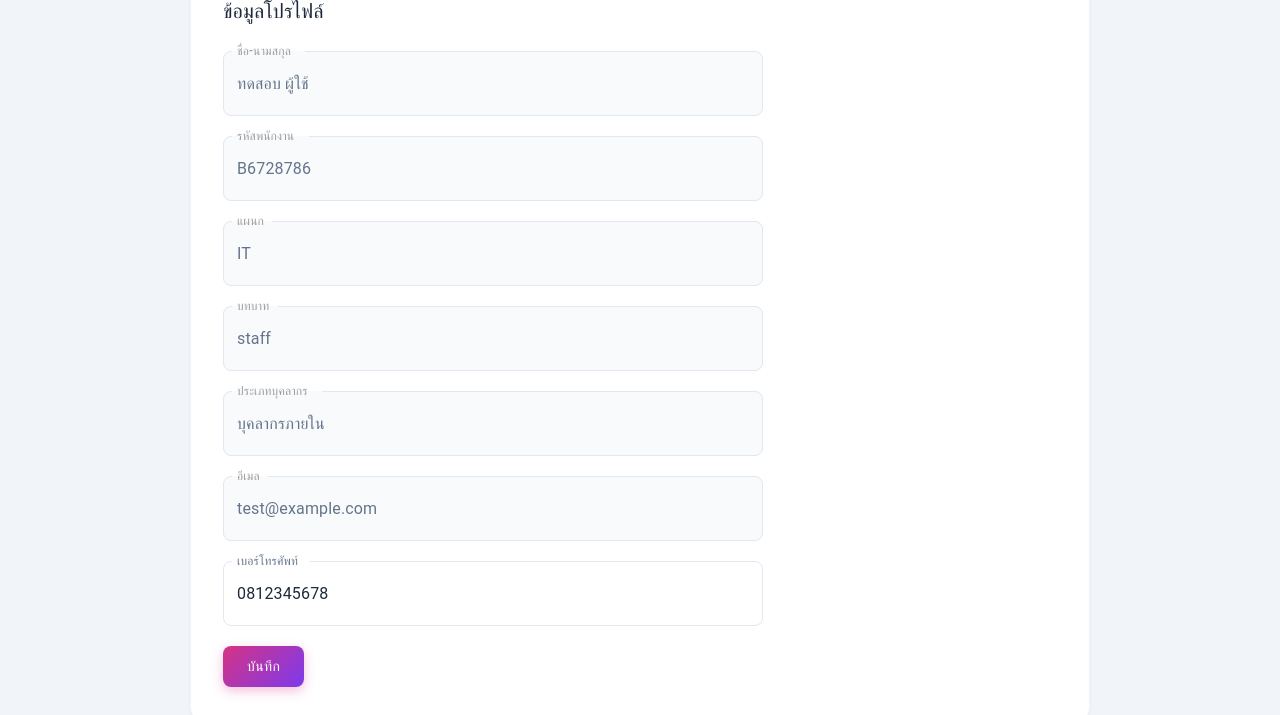
Test case: EmployeeAccountPage — ProfileTab › shows API error message when profile save fails
(page scrolled)
Expected: the field labelled "เบอร์โทรศัพท์" is shown, [223,561,763,626]
What coordinates should you click on to do the following:
click the button "บันทึก"
I would click on:
 (264, 666)
Its box is [223,646,304,686].
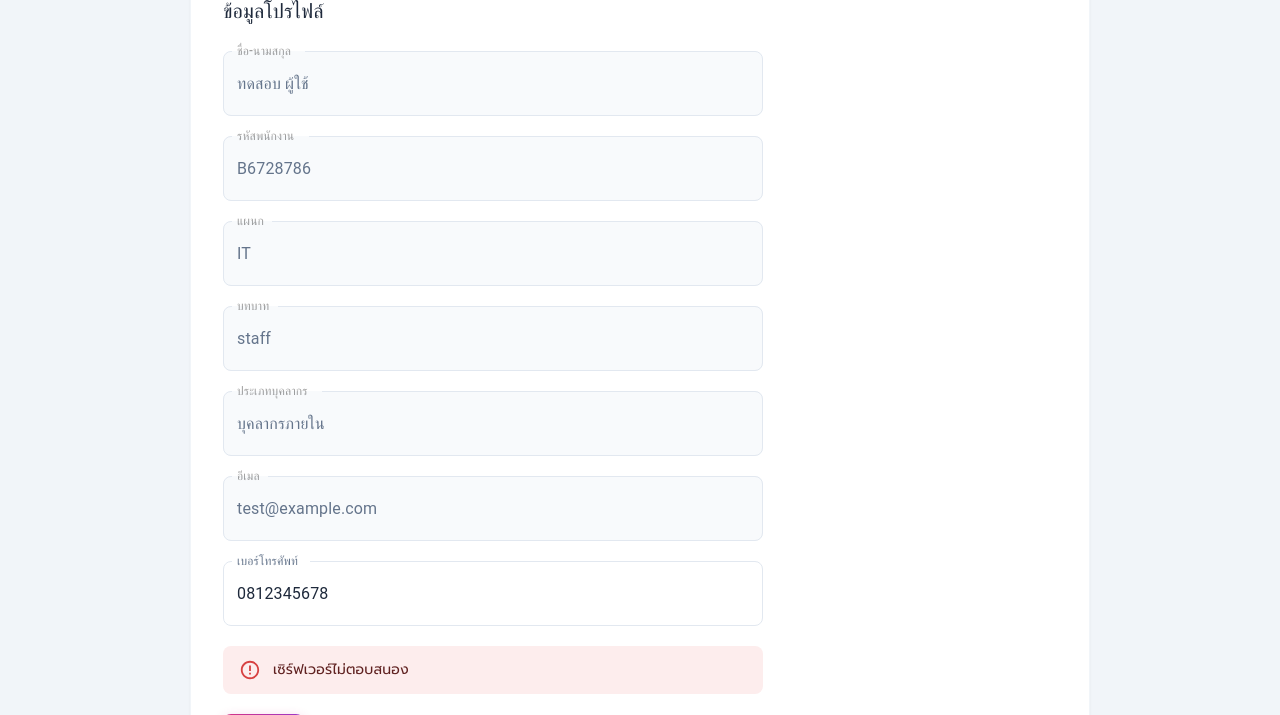
Result: the text "เซิร์ฟเวอร์ไม่ตอบสนอง" is shown at [273,659,409,680]
